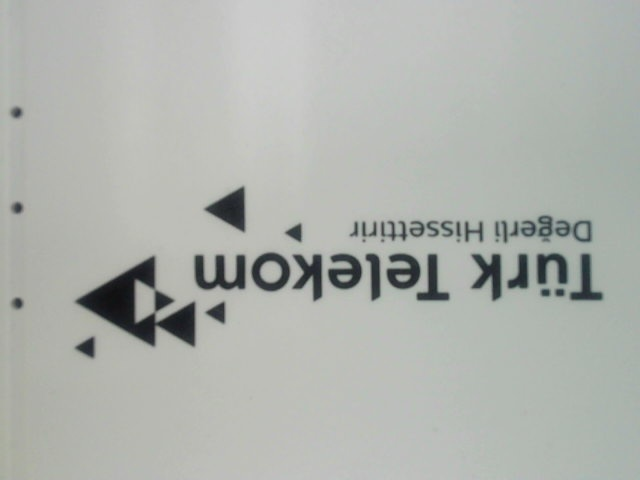AQ_TURKTelekom: (55, 180, 608, 362)
